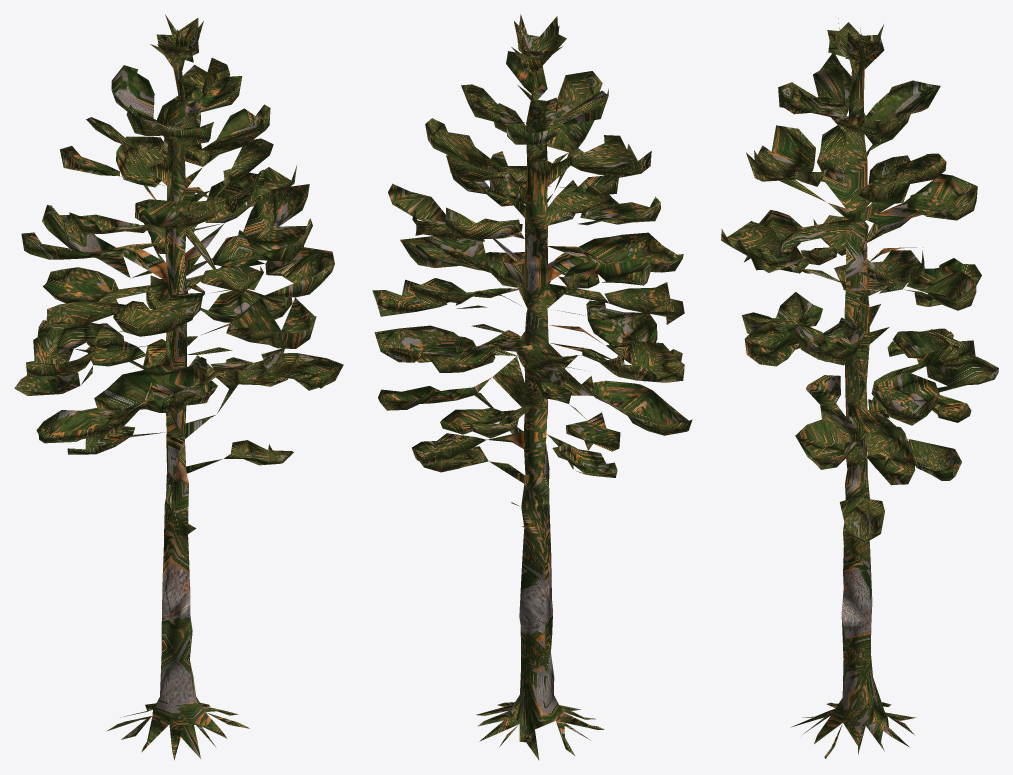
Rendered from pine-lo.glb.
3 views of the same model, side by side, from view 1: azimuth 30°, elevation 25°; view 2: azimuth 150°, elevation 25°; view 3: azimuth 270°, elevation 25° (orthographic).
Bounding box in the file's own units: 3 × 6.92 × 2.44.
1 material, 1 textured.
